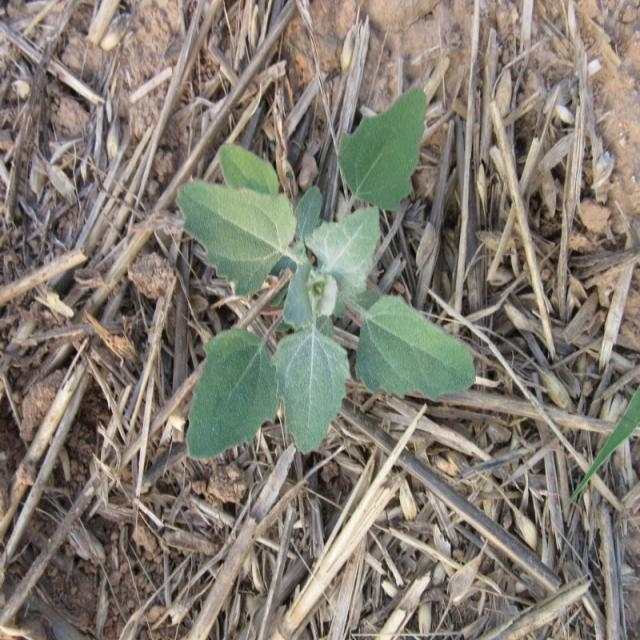ca: (178, 91, 472, 452)
